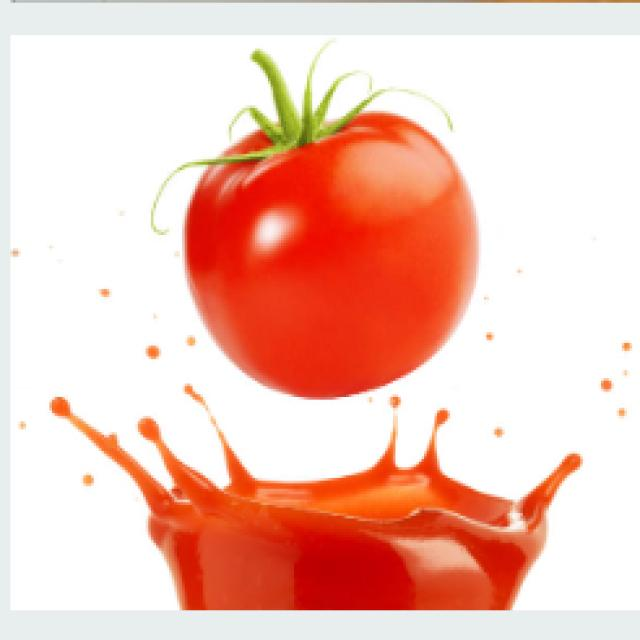Tomato: (143, 42, 510, 407)
